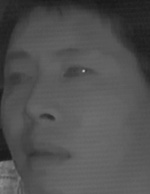eye: (63, 61, 99, 81), (3, 70, 32, 89)
mouth: (19, 135, 73, 172)
